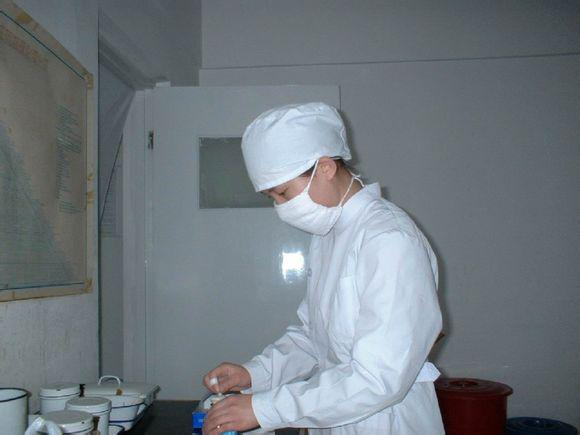OK: (272, 167, 347, 242)
